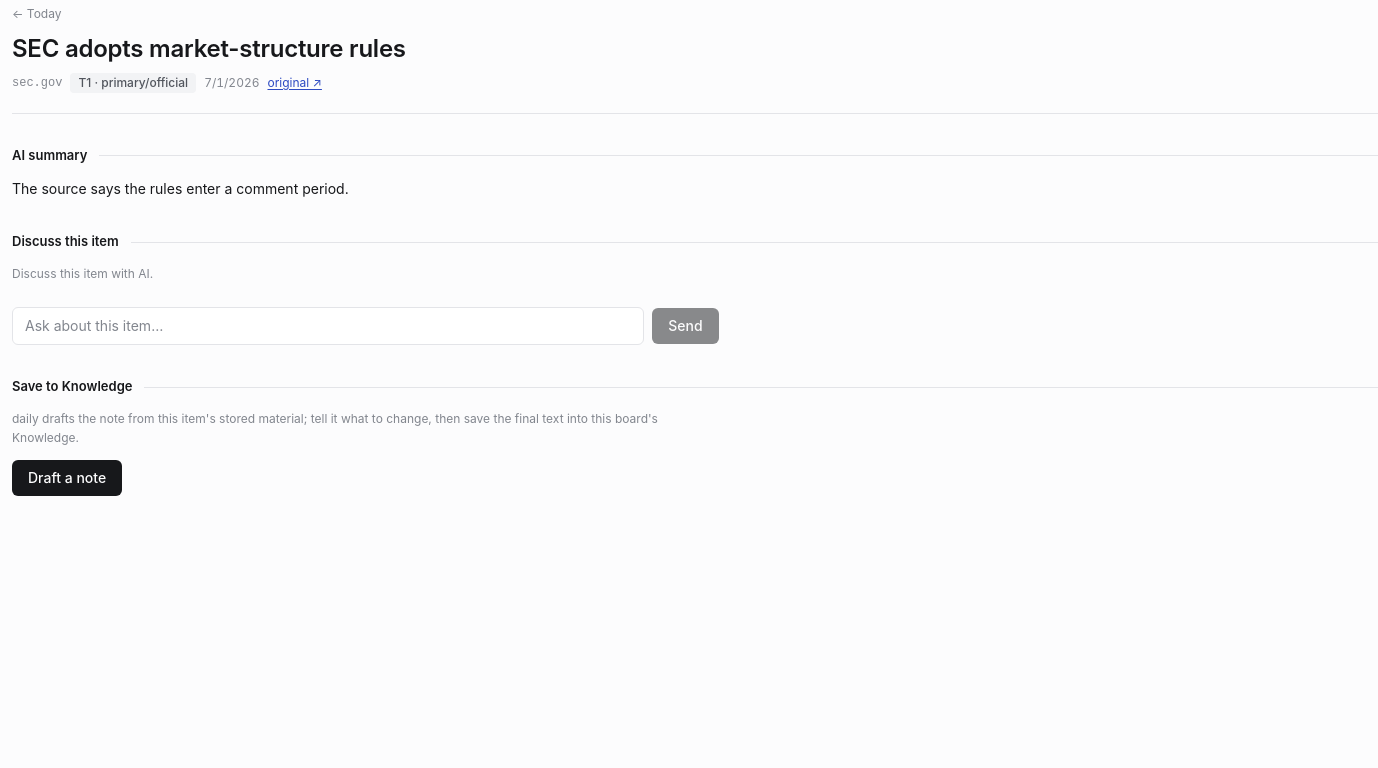
Scenario: ItemDiscussPanel (M16.5) › a failed reply is a typed, retryable error — the question is not lost
Type "hi" into the field named "Your question about this item" at {"x": 328, "y": 326}, box [12,307,644,345]
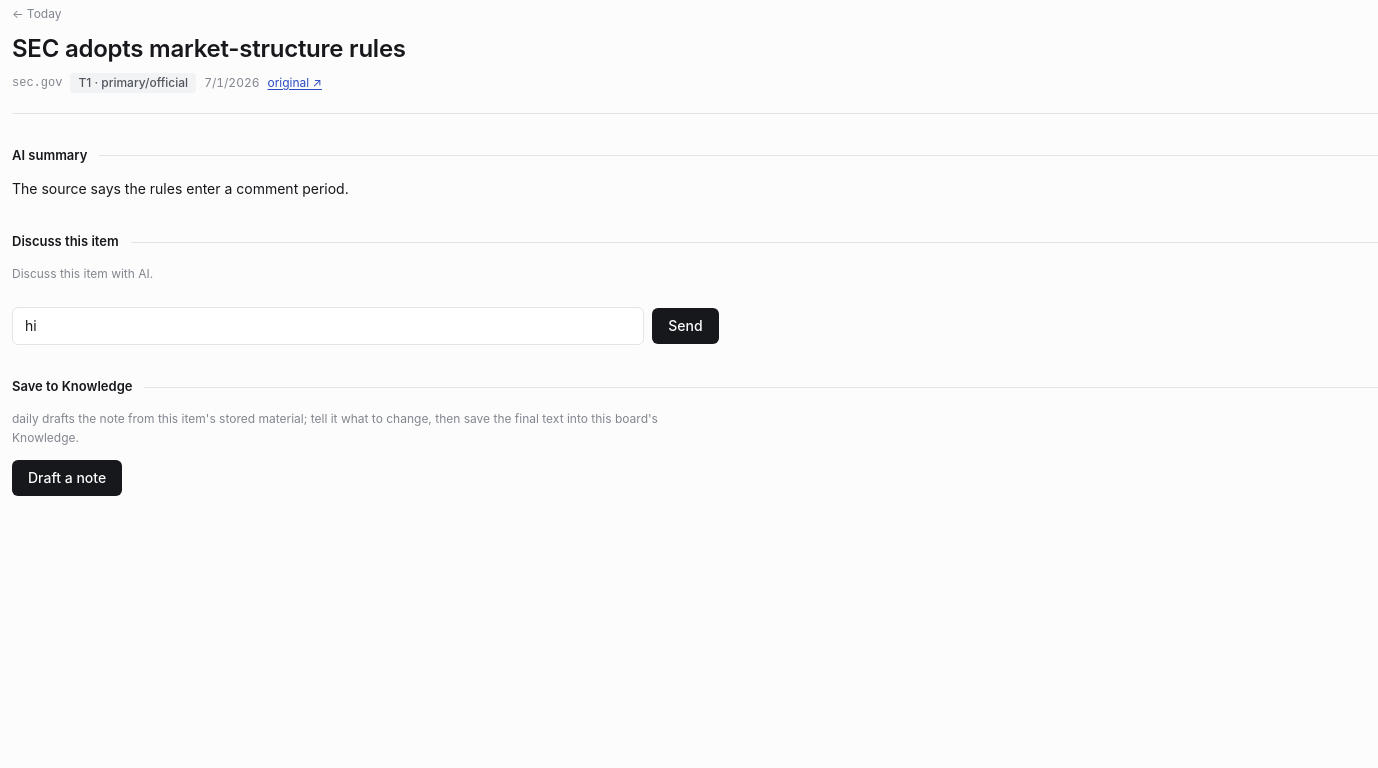
Click the button "Send" at {"x": 685, "y": 326}, box [652,308,718,344]
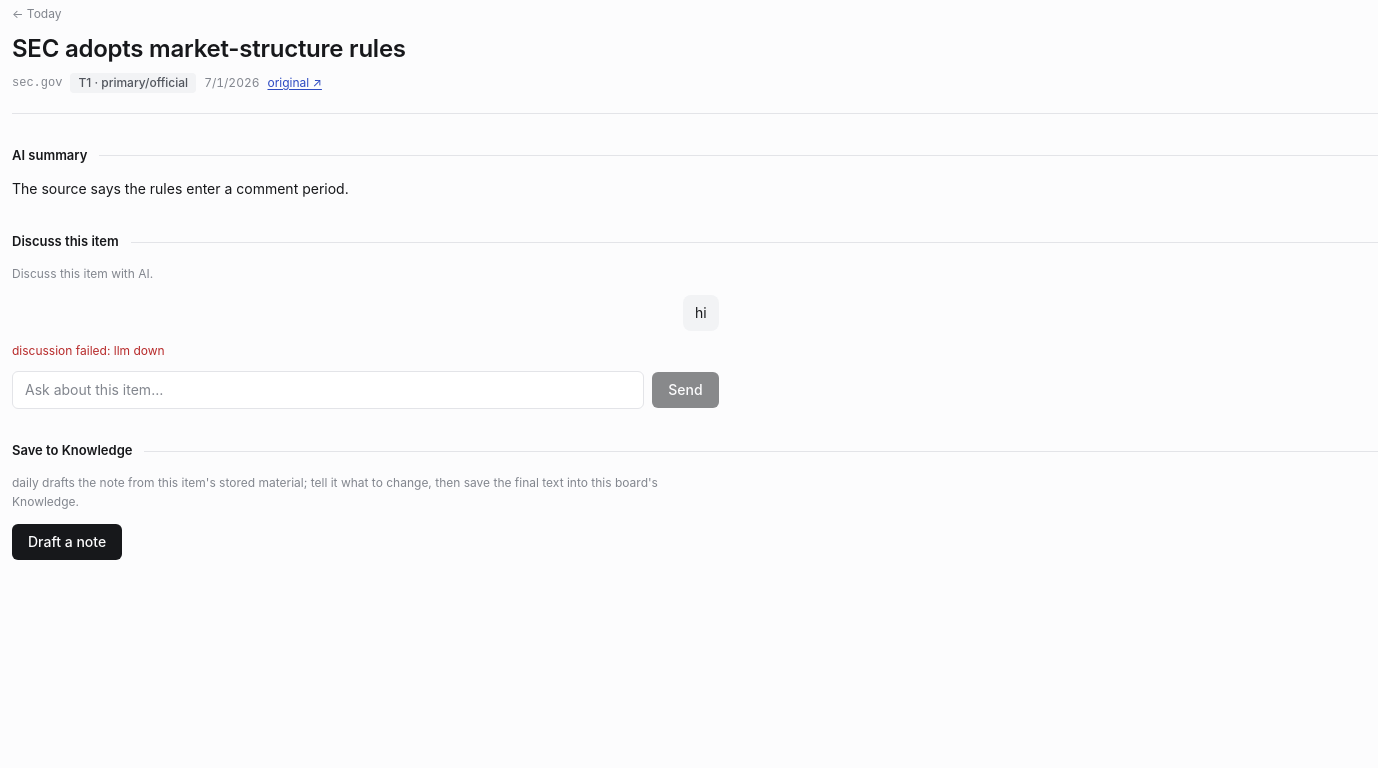
Check: the button "Send" is shown, box [652,372,718,408]
Check: the message shows "discussion failed", box [12,343,165,358]
Check: the text "hi" is shown, box [683,295,719,331]
